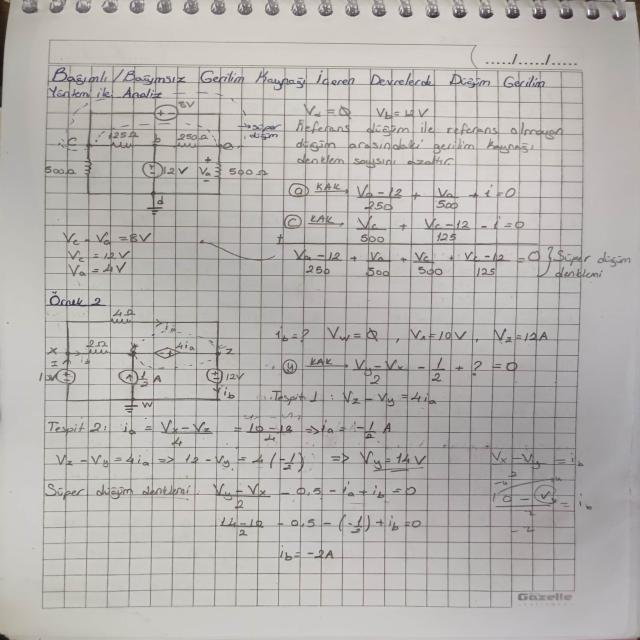image: (42, 97, 284, 218), (36, 307, 246, 416)
math: (52, 450, 434, 476), (275, 350, 522, 386), (287, 247, 555, 280), (286, 177, 528, 212), (120, 416, 399, 446), (286, 212, 532, 245), (266, 323, 554, 347), (206, 480, 430, 508), (487, 478, 599, 534), (58, 227, 164, 279), (214, 514, 425, 536), (292, 99, 441, 122), (490, 448, 586, 480), (329, 389, 444, 409), (272, 541, 343, 563)
text: (46, 64, 552, 102), (292, 119, 568, 170), (38, 480, 197, 499), (553, 246, 637, 280), (45, 288, 107, 307), (44, 418, 106, 436), (267, 387, 323, 404)
